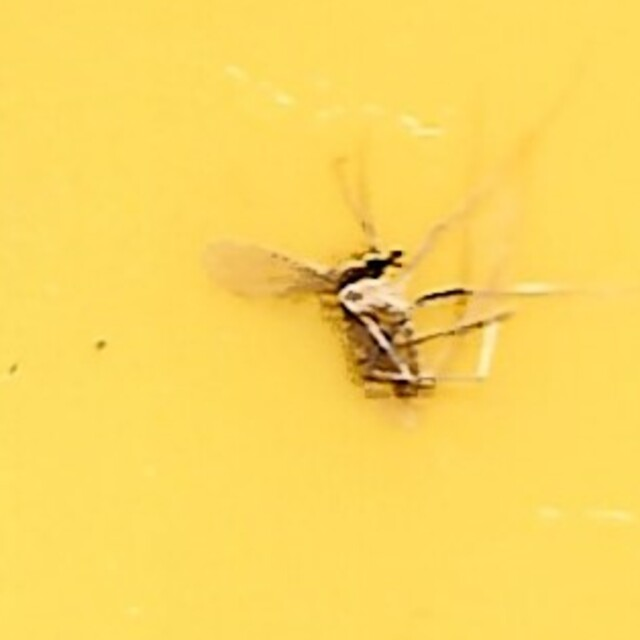Nematocera: (204, 234, 436, 406)
